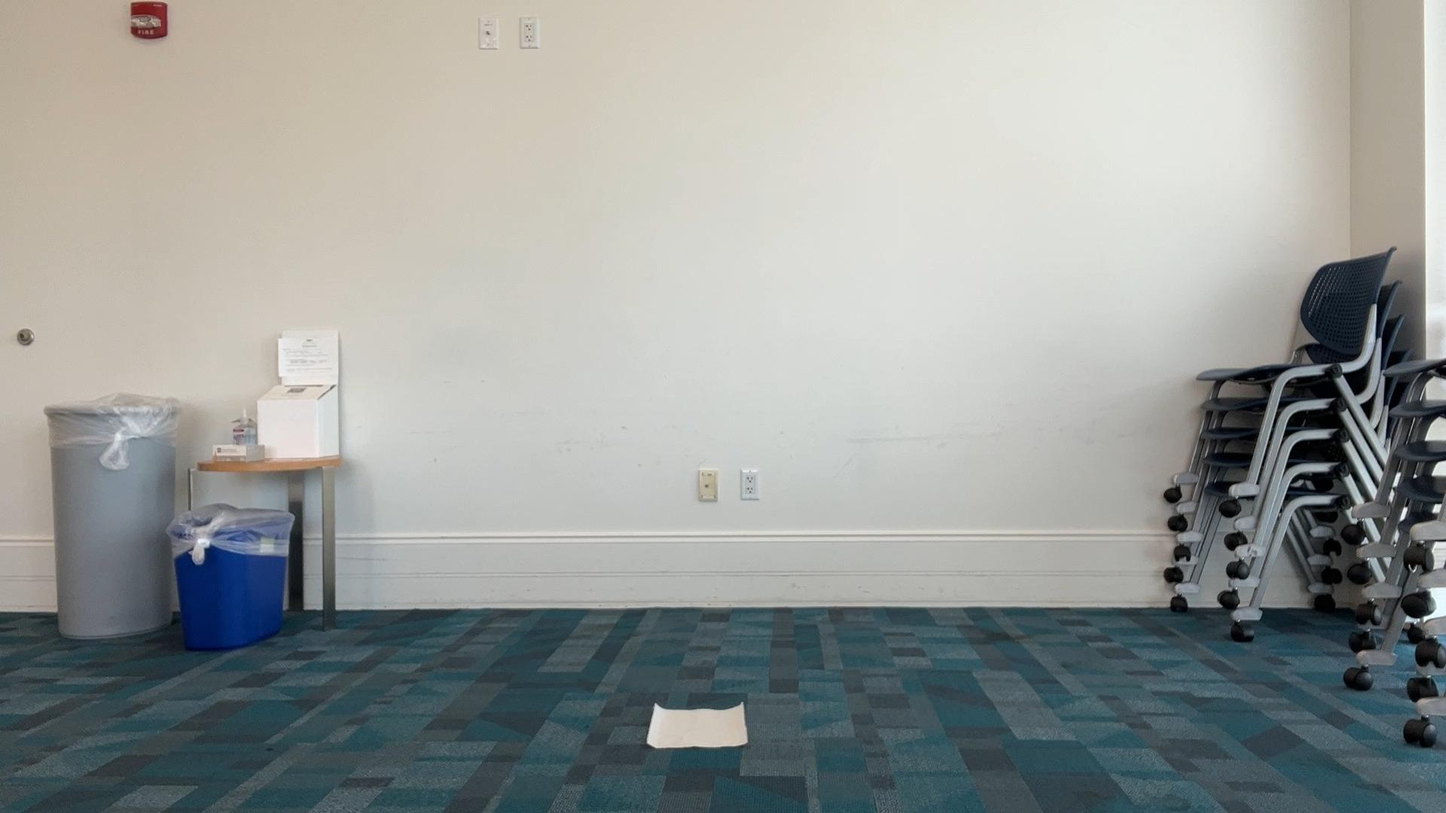Trash: (629, 686, 764, 763)
